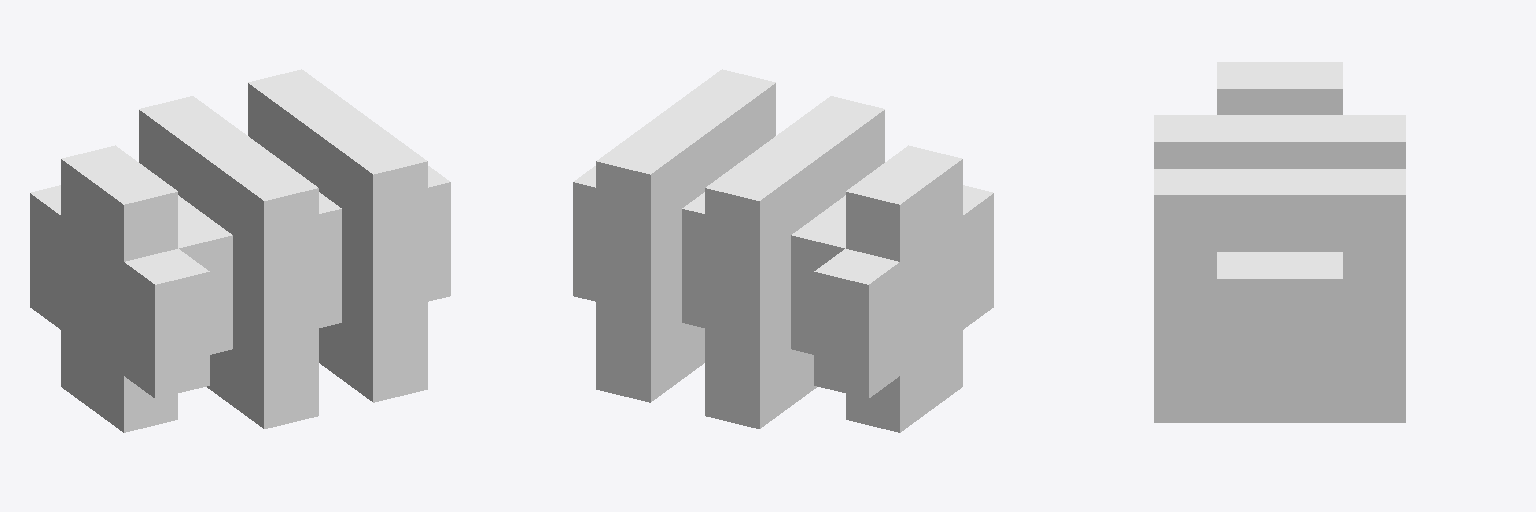
File: Robot_Alpha-2-13.obj
The picture shows the model from 3 angles: view 1: azimuth 30°, elevation 25°; view 2: azimuth 150°, elevation 25°; view 3: azimuth 270°, elevation 25°; orthographic projection.
Parts seen in each view (by area): view 1: object 1; view 2: object 1; view 3: object 1.
Part boxes in pixels (bbox=[...]): object 1: bbox=[30, 69, 450, 432]; object 1: bbox=[573, 69, 993, 432]; object 1: bbox=[1154, 62, 1405, 422].
Size of the model in its own units: 0.6 by 0.4 by 0.4.